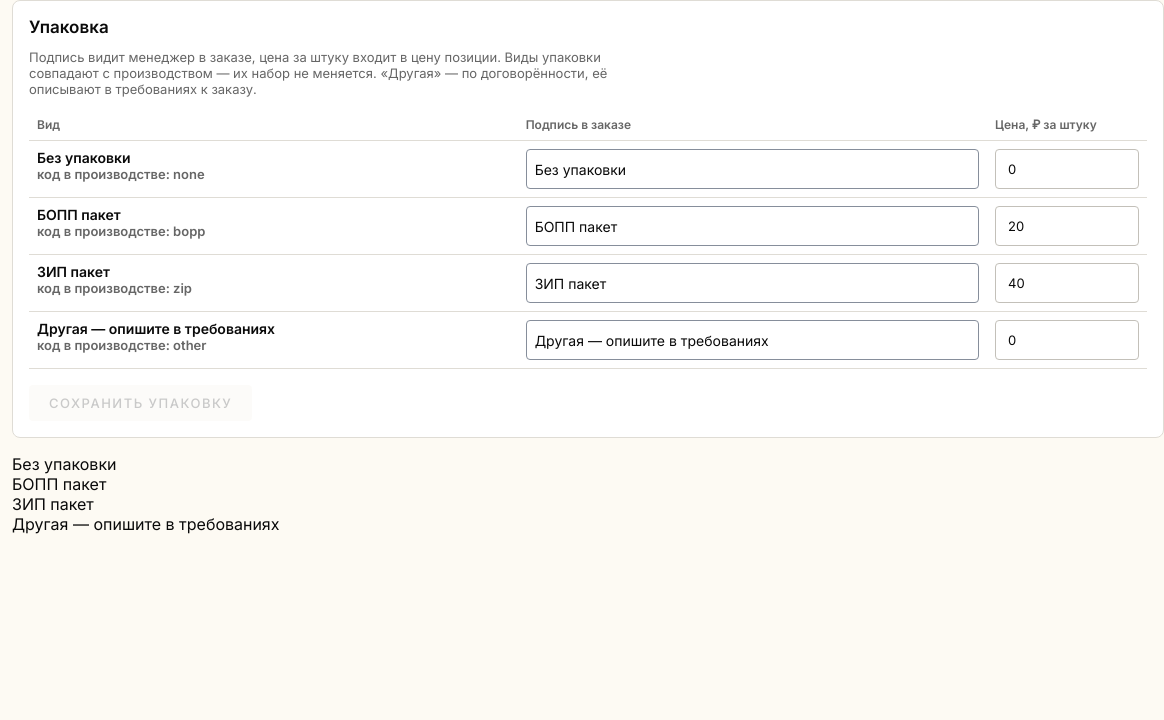
Test: подпись упаковки — один источник › сохранённая в админке подпись приходит в выбор упаковки заказа
Step 1. Replace the text in the field named "Подпись: БОПП пакет" with "Пакет БОПП 30 мкм" → [752, 226], box [526, 206, 979, 246]
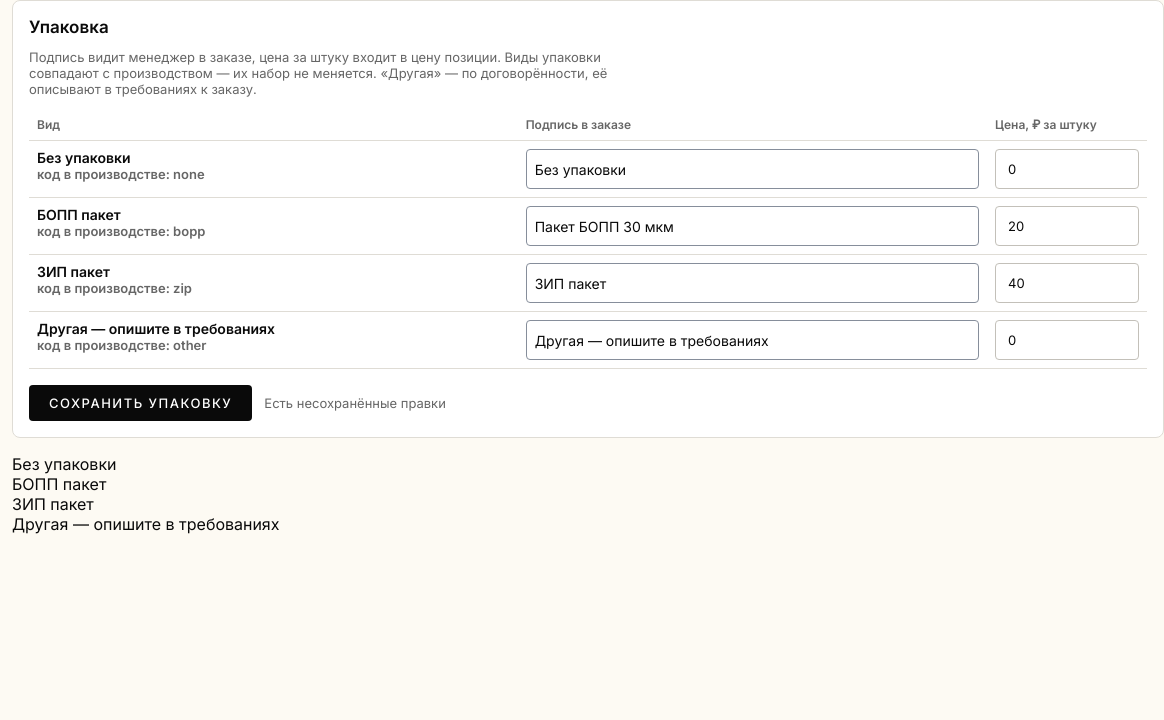
Step 2. Click the button "Сохранить упаковку" → [141, 403], box [29, 385, 252, 421]
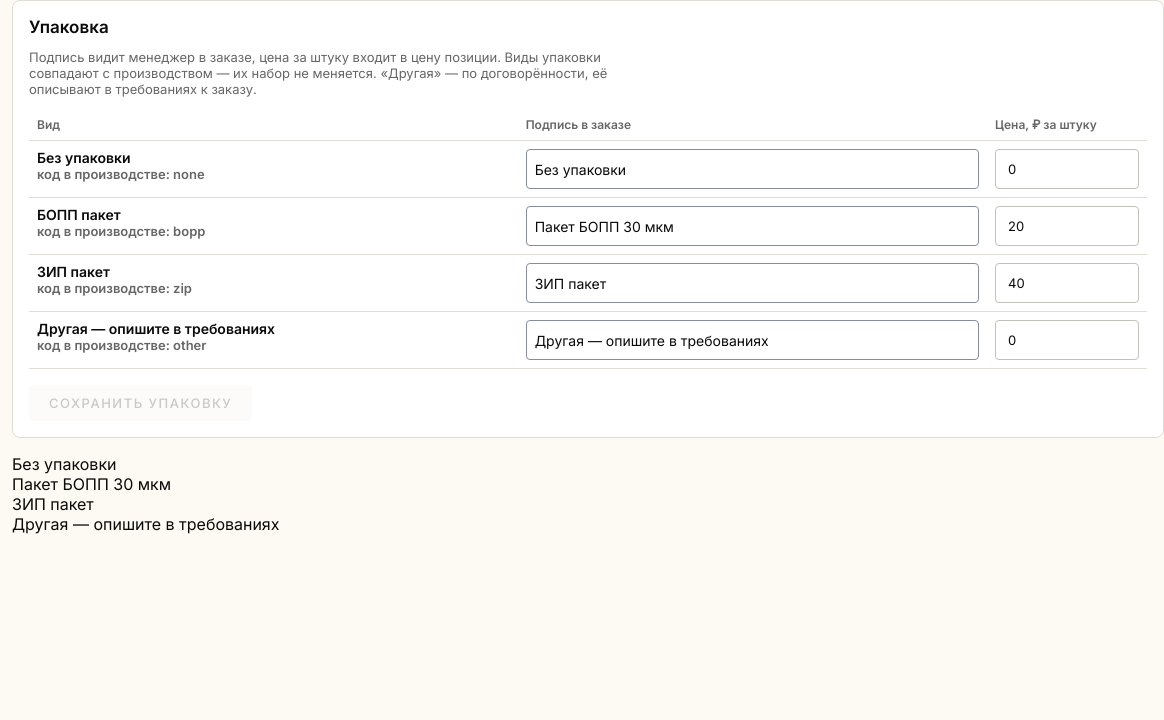
expect the list item "Пакет БОПП 30 мкм" is shown: met, box [12, 474, 171, 494]
